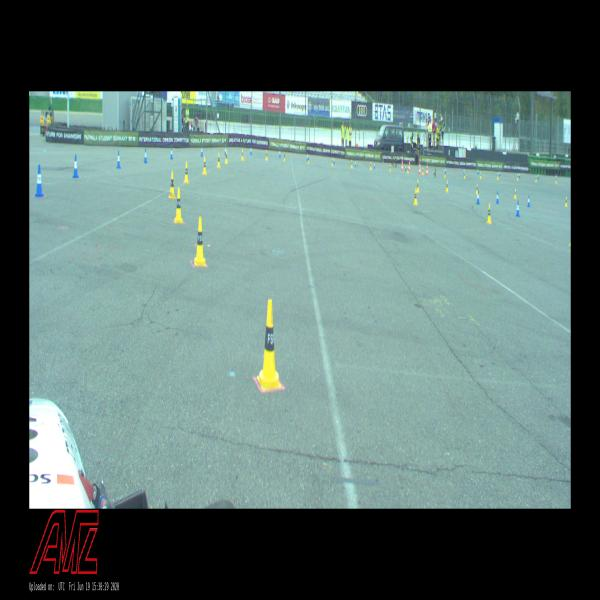blue_cone: (35, 164, 44, 197), (73, 155, 79, 178), (516, 200, 520, 217), (476, 191, 480, 204), (117, 151, 120, 168), (144, 149, 147, 163), (496, 191, 499, 204), (170, 147, 173, 159), (527, 196, 530, 206), (201, 146, 203, 157), (224, 146, 226, 156), (250, 146, 252, 155), (279, 150, 281, 158), (333, 156, 335, 164), (355, 160, 356, 167), (374, 162, 375, 169), (307, 153, 308, 160), (405, 165, 406, 172), (538, 173, 539, 179), (445, 168, 446, 174), (519, 172, 520, 178), (500, 170, 501, 176), (477, 169, 478, 175)
large_orange_cone: (418, 163, 421, 174), (401, 160, 403, 171), (426, 165, 428, 175), (409, 161, 410, 172)
yellow_cone: (257, 300, 281, 390), (194, 217, 206, 266), (175, 188, 183, 223), (169, 172, 175, 198), (184, 162, 189, 182), (486, 204, 491, 223), (203, 156, 207, 175), (414, 189, 418, 205), (225, 150, 228, 163), (241, 149, 244, 160), (565, 197, 568, 207), (218, 153, 220, 168), (417, 180, 419, 192), (446, 180, 448, 192), (476, 184, 478, 194), (266, 150, 268, 160), (514, 189, 516, 198), (350, 160, 352, 168), (444, 170, 446, 178), (389, 164, 391, 171), (370, 162, 372, 169), (407, 166, 409, 173), (535, 176, 537, 182), (555, 178, 557, 183), (308, 154, 309, 164), (284, 152, 285, 160), (332, 158, 333, 166), (497, 172, 498, 180), (464, 172, 465, 179), (480, 172, 481, 179), (422, 167, 423, 174), (517, 174, 518, 180)
